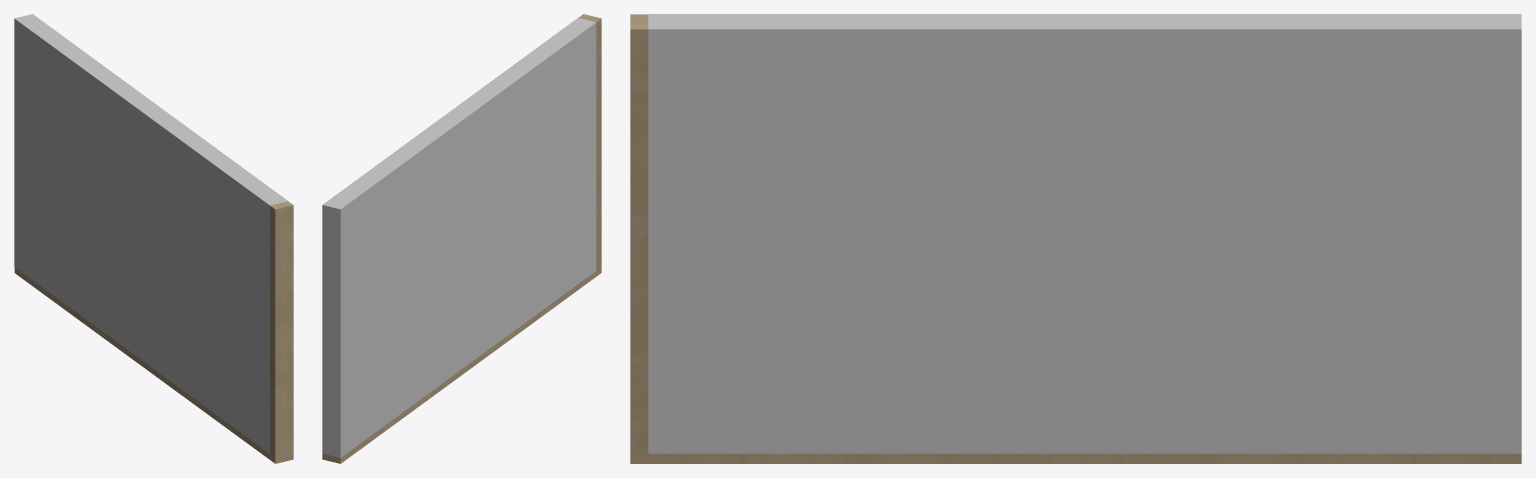
File: SM_DG_InsideWallpaper01B.fbx
3 renders of one model, left to right at view 1: azimuth 30°, elevation 25°; view 2: azimuth 150°, elevation 25°; view 3: azimuth 270°, elevation 25°, orthographic. The views are drawn at different scales.
Visible parts, largest first — view 1: SM_DG_InsideWallpaper01B_ConvexHulls, SM_DG_InsideWallpaper01B; view 2: SM_DG_InsideWallpaper01B_ConvexHulls, SM_DG_InsideWallpaper01B; view 3: SM_DG_InsideWallpaper01B_ConvexHulls, SM_DG_InsideWallpaper01B.
Boxes of the visible parts, <box> form: SM_DG_InsideWallpaper01B_ConvexHulls: <box>14,14,287,453</box>; SM_DG_InsideWallpaper01B: <box>14,201,293,463</box>; SM_DG_InsideWallpaper01B_ConvexHulls: <box>322,18,596,457</box>; SM_DG_InsideWallpaper01B: <box>322,14,601,463</box>; SM_DG_InsideWallpaper01B_ConvexHulls: <box>648,14,1521,453</box>; SM_DG_InsideWallpaper01B: <box>630,14,1521,463</box>.
Size of the model in its own units: 21.87 by 538 by 290.
